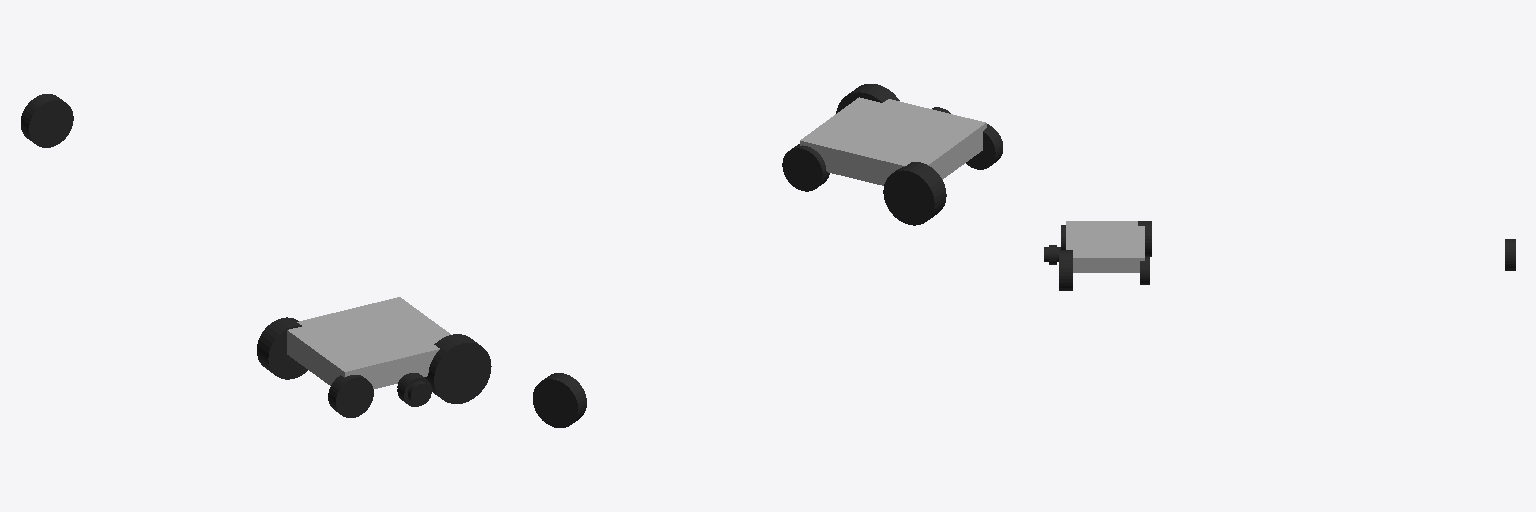
The robot description file, URDF, robot "evolved_robot":
<?xml version="1.0"?>
<robot name="evolved_robot">
  <material name="metal">
    <color rgba="0.7 0.7 0.7 1.0"/>
  </material>
  <material name="plastic">
    <color rgba="0.3 0.3 0.9 1.0"/>
  </material>
  <material name="rubber">
    <color rgba="0.1 0.1 0.1 1.0"/>
  </material>
  <material name="red">
    <color rgba="1.0 0.0 0.0 1.0"/>
  </material>
  <material name="wheel_material">
    <color rgba="0.2 0.2 0.2 1.0"/>
  </material>
  <link name="base_link">
    <visual>
      <geometry><box size="0.37285649571072044 0.34530183067010234 0.07314797569869443"/></geometry>
      <material name="metal"/>
    </visual>
    <collision>
      <geometry><box size="0.37285649571072044 0.34530183067010234 0.07314797569869443"/></geometry>
    </collision>
    <inertial>
      <mass value="5.0"/>
      <inertia ixx="0.10381998384411735" ixy="0" ixz="0" 
               iyy="0.12031049395207938" iyz="0" 
               izz="0.2152127672148354"/>
    </inertial>
  </link>
  <link name="link1">
    <visual>
      <geometry>
        <cylinder radius="0.06194328107442594" length="0.04123180843500207"/>
      </geometry>
      <material name="wheel_material"/>
    </visual>
    <collision>
      <geometry>
        <cylinder radius="0.06194328107442594" length="0.04123180843500207"/>
      </geometry>
    </collision>
    <inertial>
      <mass value="1.0"/>
      <inertia ixx="0.001100914353134726" ixy="0" ixz="0" 
               iyy="0.001100914353134726" iyz="0" 
               izz="0.0019184850351326675"/>
    </inertial>
  </link>
  <joint name="joint1" type="prismatic">
    <parent link="base_link"/>
    <child link="link1"/>
    <origin xyz="0.16642824785536023 0.17265091533505117 -0.03657398784934721" rpy="1.5708 0 0"/>
    <axis xyz="0 1 0"/>
    <dynamics damping="0.9620773342175082" friction="0.1"/>
  </joint>
  <link name="link2">
    <visual>
      <geometry>
        <cylinder radius="0.09029426245970104" length="0.06357497189143543"/>
      </geometry>
      <material name="wheel_material"/>
    </visual>
    <collision>
      <geometry>
        <cylinder radius="0.09029426245970104" length="0.06357497189143543"/>
      </geometry>
    </collision>
    <inertial>
      <mass value="1.0"/>
      <inertia ixx="0.002375078212535078" ixy="0" ixz="0" 
               iyy="0.002375078212535078" iyz="0" 
               izz="0.004076526916570689"/>
    </inertial>
  </link>
  <joint name="joint2" type="continuous">
    <parent link="base_link"/>
    <child link="link2"/>
    <origin xyz="0.16642824785536023 -0.17265091533505117 -0.03657398784934721" rpy="1.5708 0 0"/>
    <axis xyz="0 1 0"/>
    <dynamics damping="0.9511788792221783" friction="0.1"/>
  </joint>
  <link name="link3">
    <visual>
      <geometry>
        <cylinder radius="0.07871691692940436" length="0.06370499732642225"/>
      </geometry>
      <material name="wheel_material"/>
    </visual>
    <collision>
      <geometry>
        <cylinder radius="0.07871691692940436" length="0.06370499732642225"/>
      </geometry>
    </collision>
    <inertial>
      <mass value="1.0"/>
      <inertia ixx="0.0018872821430809753" ixy="0" ixz="0" 
               iyy="0.0018872821430809753" iyz="0" 
               izz="0.003098176505435373"/>
    </inertial>
  </link>
  <joint name="joint3" type="continuous">
    <parent link="base_link"/>
    <child link="link3"/>
    <origin xyz="-0.16642824785536023 0.17265091533505117 -0.03657398784934721" rpy="1.5708 0 0"/>
    <axis xyz="0 1 0"/>
    <dynamics damping="0.7850074824219392" friction="0.1"/>
  </joint>
  <link name="link4">
    <visual>
      <geometry>
        <cylinder radius="0.05990636558940121" length="0.04180201214859394"/>
      </geometry>
      <material name="wheel_material"/>
    </visual>
    <collision>
      <geometry>
        <cylinder radius="0.05990636558940121" length="0.04180201214859394"/>
      </geometry>
    </collision>
    <inertial>
      <mass value="1.0"/>
      <inertia ixx="0.0010428105111720146" ixy="0" ixz="0" 
               iyy="0.0010428105111720146" iyz="0" 
               izz="0.0017943863190654967"/>
    </inertial>
  </link>
  <joint name="joint4" type="continuous">
    <parent link="base_link"/>
    <child link="link4"/>
    <origin xyz="-0.16642824785536023 -0.17265091533505117 -0.03657398784934721" rpy="1.5708 0 0"/>
    <axis xyz="0 1 0"/>
    <dynamics damping="0.41545656516918195" friction="0.1"/>
  </joint>
  <link name="link5">
    <visual>
      <geometry>
        <cylinder radius="0.03281856213288084" length="0.07313775566668783"/>
      </geometry>
      <material name="wheel_material"/>
    </visual>
    <collision>
      <geometry>
        <cylinder radius="0.03281856213288084" length="0.07313775566668783"/>
      </geometry>
    </collision>
    <inertial>
      <mass value="1.0"/>
      <inertia ixx="0.0007150254471141174" ixy="0" ixz="0" 
               iyy="0.0007150254471141174" iyz="0" 
               izz="0.0005385290102348802"/>
    </inertial>
  </link>
  <joint name="joint5" type="continuous">
    <parent link="base_link"/>
    <child link="link5"/>
    <origin xyz="0 -0.23020122044673488 -0.03657398784934721" rpy="1.5708 0 0"/>
    <axis xyz="0 1 0"/>
    <dynamics damping="0.6407161603204423" friction="0.1"/>
  </joint>
  <link name="link6">
    <visual>
      <geometry>
        <cylinder radius="0.07032088423401835" length="0.04645433045720568"/>
      </geometry>
      <material name="wheel_material"/>
    </visual>
    <collision>
      <geometry>
        <cylinder radius="0.07032088423401835" length="0.04645433045720568"/>
      </geometry>
    </collision>
    <inertial>
      <mass value="1.0"/>
      <inertia ixx="0.0014160904247158248" ixy="0" ixz="0" 
               iyy="0.0014160904247158248" iyz="0" 
               izz="0.002472513379727105"/>
    </inertial>
  </link>
  <joint name="joint6" type="continuous">
    <parent link="base_link"/>
    <child link="link6"/>
    <origin xyz="0 1.769798779553265 -0.03657398784934721" rpy="1.5708 0 0"/>
    <axis xyz="0 1 0"/>
    <dynamics damping="0.9384190659020333" friction="0.1"/>
  </joint>
  <link name="link7">
    <visual>
      <geometry>
        <cylinder radius="0.04330185309388859" length="0.03712460767066635"/>
      </geometry>
      <material name="wheel_material"/>
    </visual>
    <collision>
      <geometry>
        <cylinder radius="0.04330185309388859" length="0.03712460767066635"/>
      </geometry>
    </collision>
    <inertial>
      <mass value="1.0"/>
      <inertia ixx="0.0005836156615662522" ixy="0" ixz="0" 
               iyy="0.0005836156615662522" iyz="0" 
               izz="0.0009375252406823545"/>
    </inertial>
  </link>
  <joint name="joint7" type="fixed">
    <parent link="base_link"/>
    <child link="link7"/>
    <origin xyz="0 -0.23020122044673488 -0.03657398784934721" rpy="1.5708 0 0"/>
    <axis xyz="0 1 0"/>
    <dynamics damping="0.1" friction="0.1"/>
  </joint>
</robot>

--- Render facts (derived) ---
3 views of the same robot in one strip: view 1: azimuth 30°, elevation 25°; view 2: azimuth 150°, elevation 25°; view 3: azimuth 270°, elevation 25° (orthographic).
Model evolved_robot with 8 links and 7 joints (5 continuous, 1 prismatic, 1 fixed), rooted at base_link, posed all joints at 0.
Visible links, largest first — view 1: base_link, link2, link6, link3, link4; view 2: base_link, link3, link6, link1, link4, link2; view 3: base_link, link2.
Link boxes in pixels (box(x1,y1,x2,y2)): base_link: box(287, 297, 450, 388); link2: box(425, 334, 491, 403); link6: box(21, 94, 73, 147); link3: box(257, 317, 307, 379); link4: box(328, 375, 373, 417); base_link: box(800, 97, 986, 185); link3: box(883, 162, 946, 225); link6: box(533, 373, 586, 427); link1: box(782, 144, 829, 191); link4: box(966, 124, 1002, 169); link2: box(836, 84, 899, 113); base_link: box(1066, 221, 1144, 272); link2: box(1059, 250, 1072, 290).
Size in the robot's own frame: 0.5019 by 2.06 by 0.1806 metres.
Geometry: primitives only (box / cylinder / sphere), no mesh files.